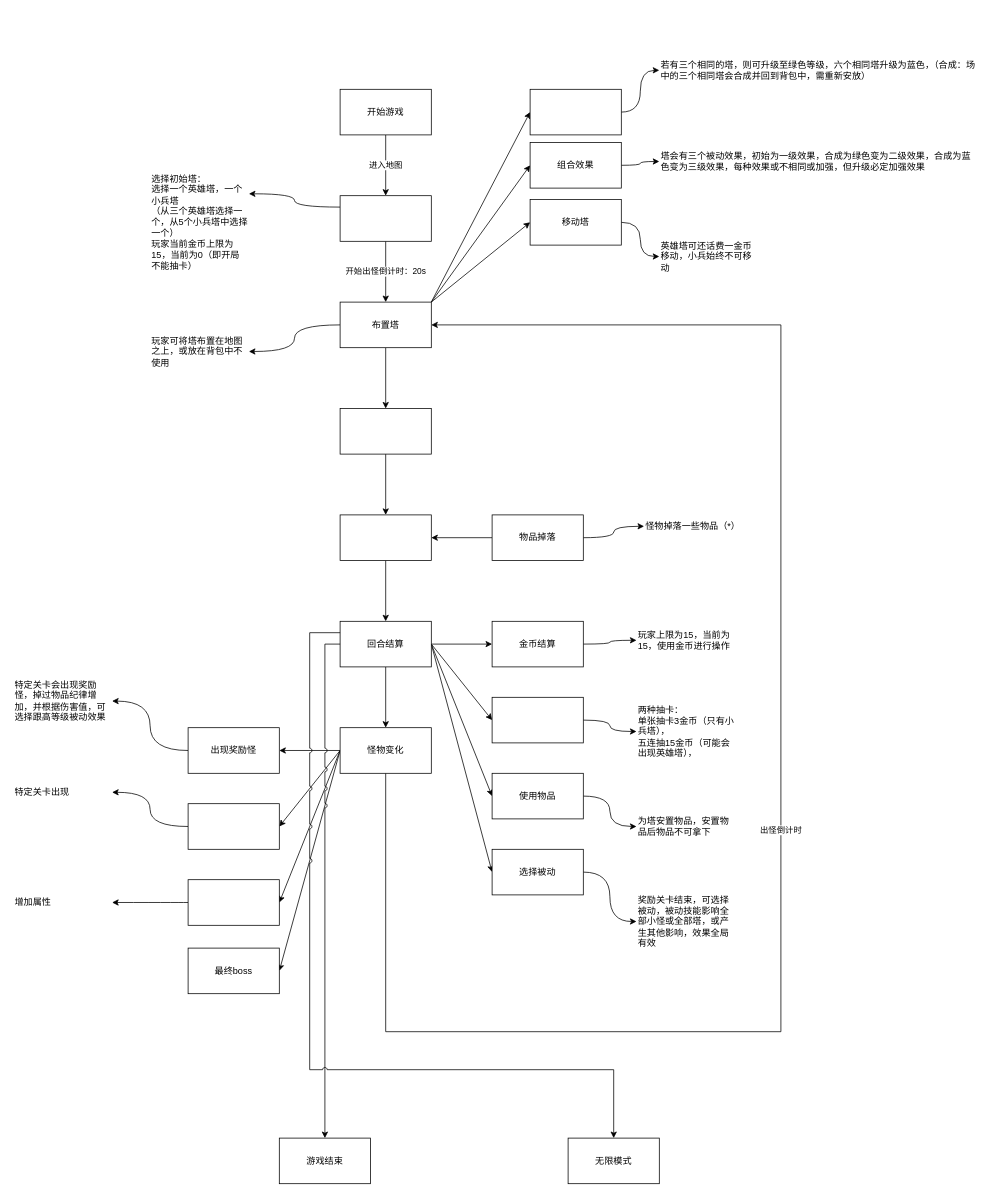
Image size: 991x1197. Some labels were removed from this diagram. Each missing label, with the box of its shape:
出怪: (339, 408, 431, 454)
小boss怪: (187, 803, 279, 849)
小怪升级: (187, 879, 279, 925)
抽塔: (491, 697, 583, 743)
攻击过程: (339, 514, 431, 560)
组合升级: (529, 89, 621, 135)
选择初始塔: (339, 195, 431, 241)
